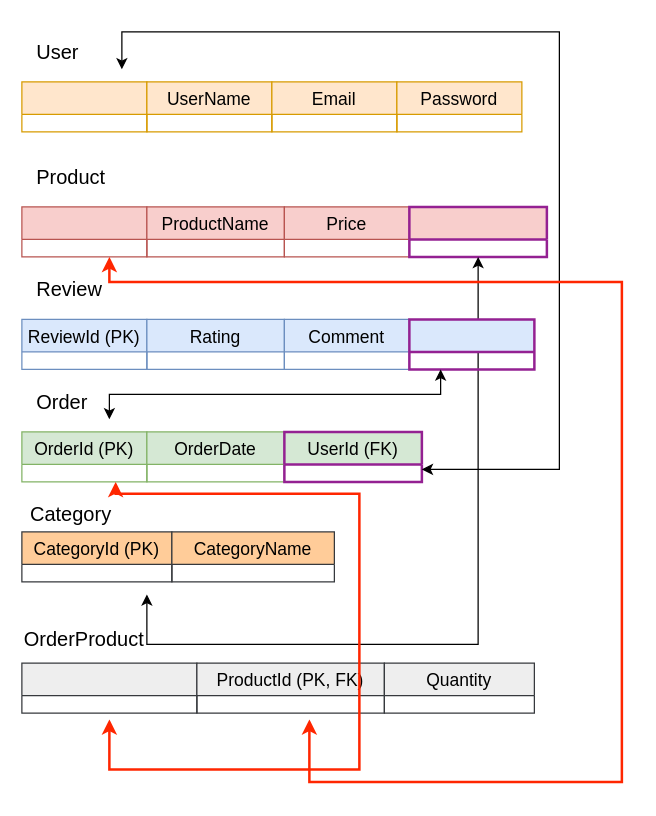
Image size: 656x816. Some labels were removed from this diagram. The centre of each missing label's shape, as x and y in pixels:
CategoryId (FK): point (478, 231)
OrderId (FK): point (471, 344)
OrderId (PK, FK): point (109, 687)
ProductId (PK): point (84, 231)
UserId (PK): point (84, 106)
